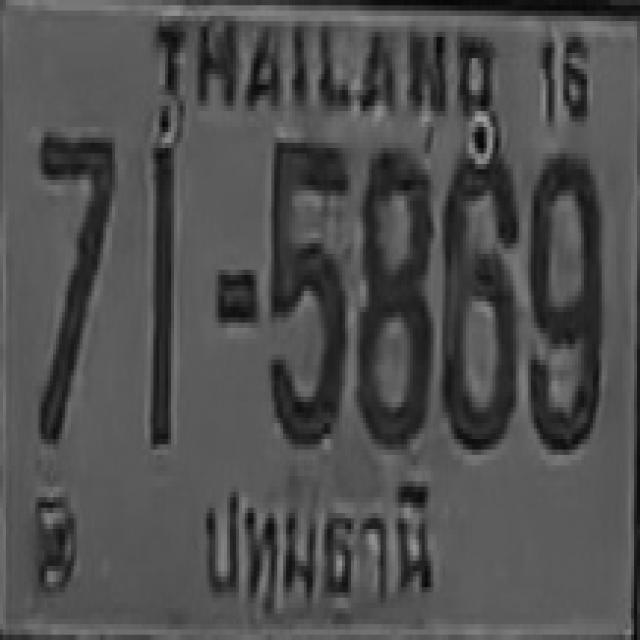1: (150, 138, 174, 444)
5: (268, 135, 348, 442)
6: (440, 148, 516, 444)
7: (37, 130, 113, 442)
8: (355, 143, 432, 444)
9: (528, 148, 602, 450)
PathumThani: (184, 467, 444, 612)
